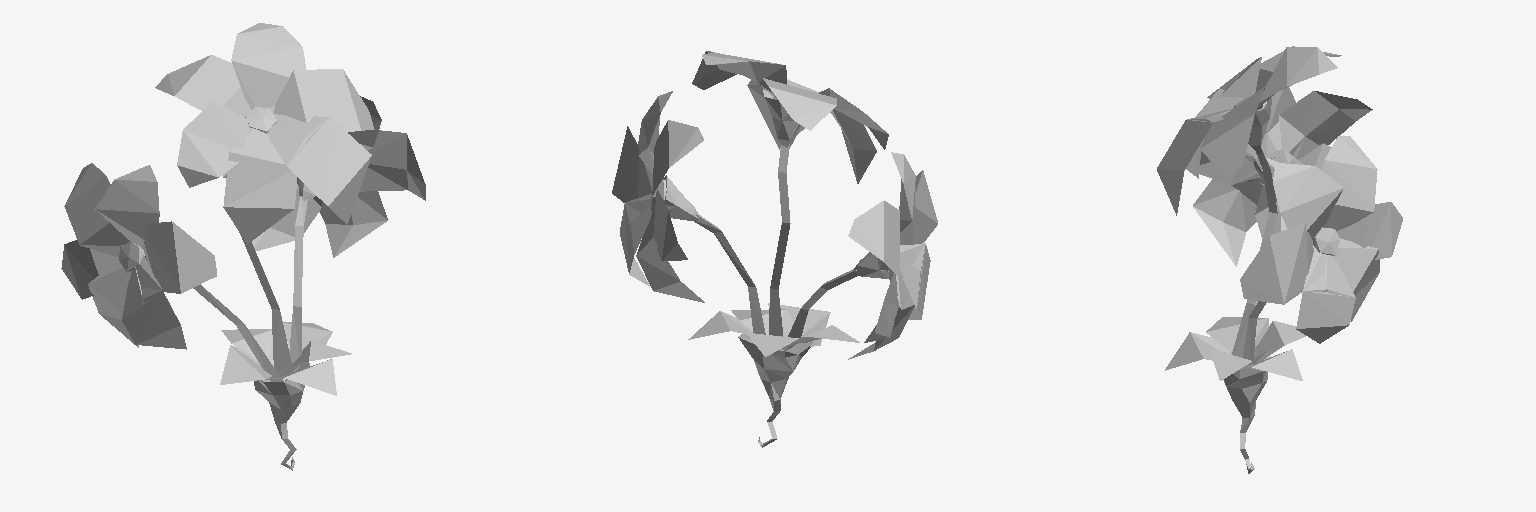
The model's file is Flowers1.obj.
3 renders of one model, left to right at view 1: azimuth 30°, elevation 25°; view 2: azimuth 150°, elevation 25°; view 3: azimuth 270°, elevation 25°, orthographic.
Visible parts, largest first — view 1: Object.1; view 2: Object.1; view 3: Object.1.
Boxes of the visible parts, x1=… form: Object.1: x1=61, y1=23, x2=425, y2=470; Object.1: x1=612, y1=51, x2=937, y2=447; Object.1: x1=1157, y1=46, x2=1402, y2=473.
Bounding box in the file's own units: 0.3966 × 0.512 × 0.275.